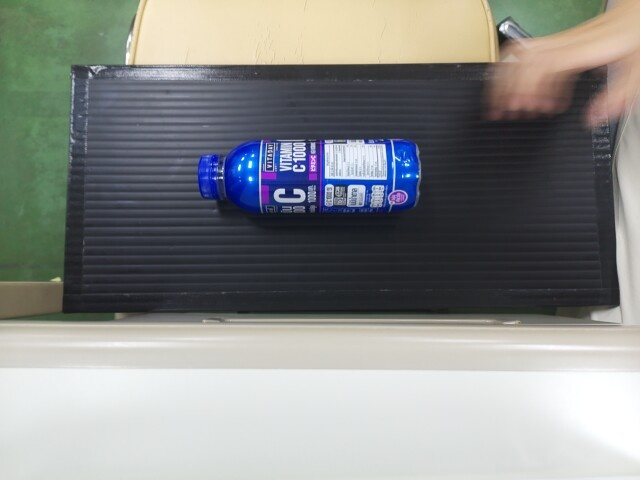plastic_bottle: (196, 138, 421, 213)
